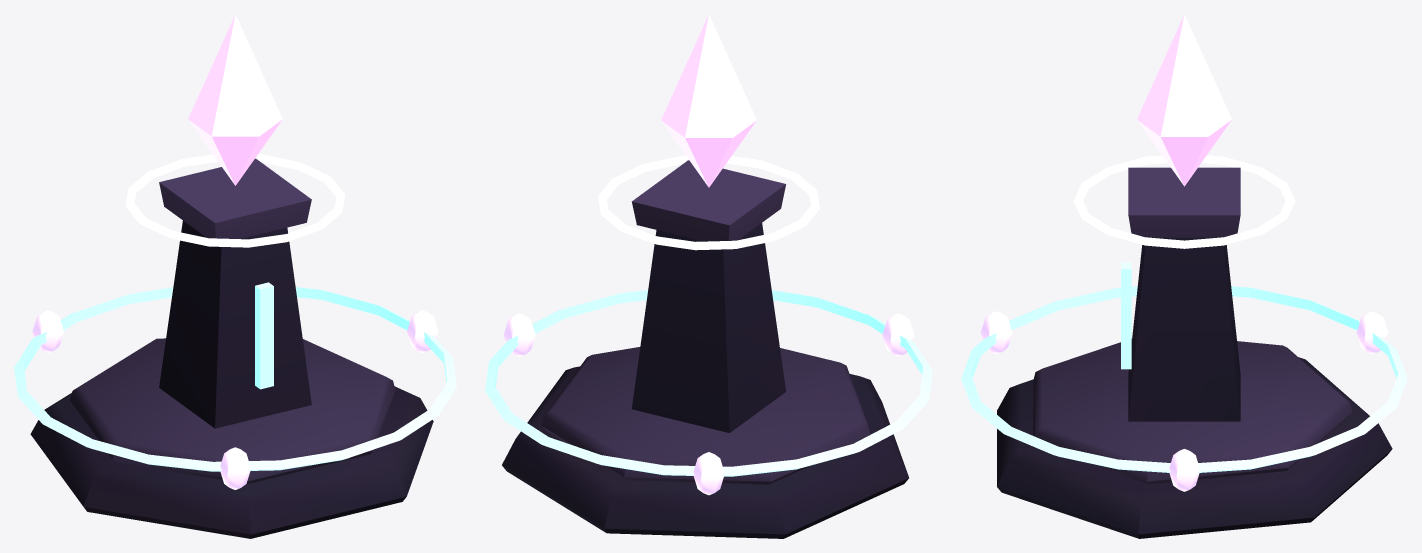
Rendered from ombres_2.glb.
3 renders of one model, left to right at view 1: azimuth 30°, elevation 25°; view 2: azimuth 150°, elevation 25°; view 3: azimuth 270°, elevation 25°, orthographic.
Visible parts, largest first — view 1: ombres_2_peint, Rune, Cristal_lueur, Givre, AnneauFlottant_lueur, Rune.001; view 2: ombres_2_peint, Rune, Cristal_lueur, Givre, AnneauFlottant_lueur; view 3: ombres_2_peint, Rune, Cristal_lueur, Givre, AnneauFlottant_lueur, Rune.001.
Part boxes in pixels (bbox=[...]): ombres_2_peint: bbox=[30, 158, 433, 538]; Rune: bbox=[14, 287, 456, 471]; Cristal_lueur: bbox=[188, 14, 282, 185]; Givre: bbox=[125, 154, 345, 247]; AnneauFlottant_lueur: bbox=[32, 310, 438, 489]; Rune.001: bbox=[255, 282, 273, 389]; ombres_2_peint: bbox=[502, 160, 908, 538]; Rune: bbox=[485, 290, 932, 476]; Cristal_lueur: bbox=[661, 14, 756, 187]; Givre: bbox=[598, 155, 819, 250]; AnneauFlottant_lueur: bbox=[503, 313, 914, 495]; ombres_2_peint: bbox=[997, 167, 1392, 538]; Rune: bbox=[961, 286, 1407, 472]; Cristal_lueur: bbox=[1137, 14, 1231, 186]; Givre: bbox=[1073, 155, 1295, 248]; AnneauFlottant_lueur: bbox=[980, 311, 1388, 491]; Rune.001: bbox=[1121, 262, 1131, 369].
Bounding box in the file's own units: 0.858 × 0.92 × 0.844.
